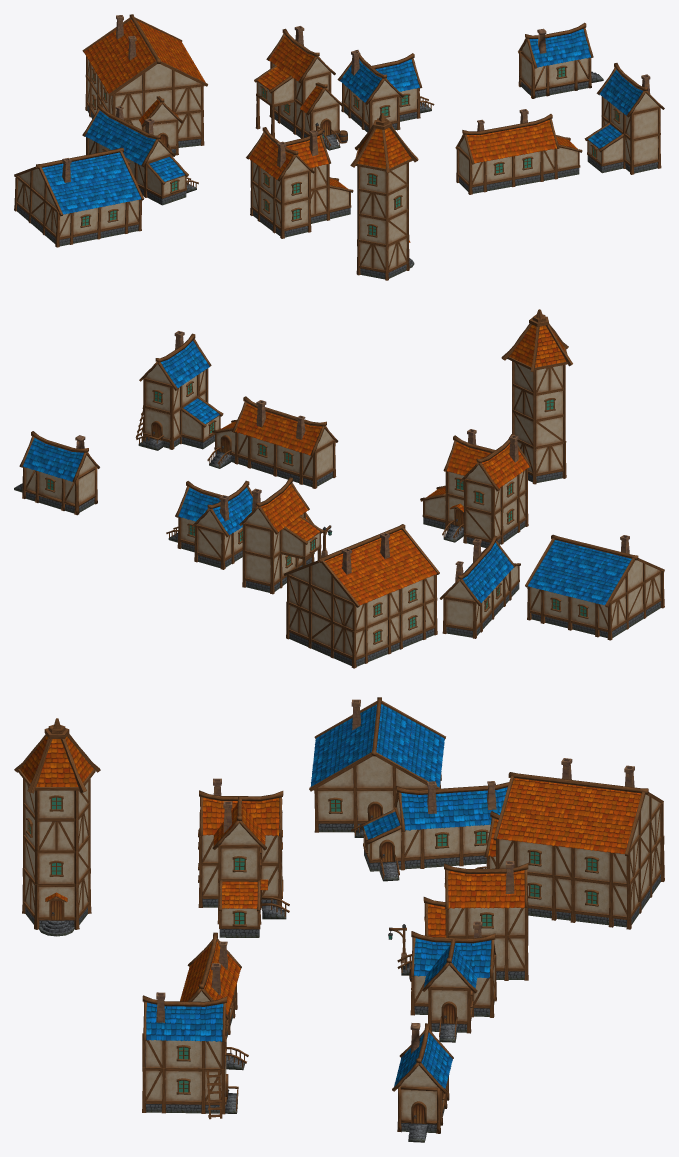
3 views of the same model, one above another, from view 1: azimuth 30°, elevation 25°; view 2: azimuth 150°, elevation 25°; view 3: azimuth 270°, elevation 25° (orthographic). The views are drawn at different scales.
Visible parts, largest first — view 1: RH8, BH6, RH6, Tower, RH3, RH4, BH1, BH5, BH2, BH3; view 2: RH8, BH6, RH6, Tower, RH3, BH1, RH4, BH5, BH2, BH3; view 3: RH8, Tower, BH6, RH6, BH5, BH1, RH4, BH2, BH3, RH3.
Part boxes in pixels (x1,y1,x2,y2): RH8: (82, 14, 207, 156); BH6: (14, 147, 144, 247); RH6: (246, 127, 353, 238); Tower: (350, 113, 418, 280); RH3: (455, 109, 582, 194); RH4: (254, 26, 343, 150); BH1: (584, 63, 664, 174); BH5: (82, 103, 198, 205); BH2: (337, 50, 434, 132); BH3: (518, 22, 603, 98); RH8: (284, 524, 439, 668); BH6: (525, 534, 664, 640); RH6: (420, 429, 531, 547); Tower: (501, 309, 572, 484); RH3: (207, 396, 338, 488); BH1: (136, 331, 223, 450); RH4: (239, 477, 323, 594); BH5: (439, 535, 520, 638); BH2: (166, 480, 253, 569); BH3: (14, 431, 99, 515); RH8: (475, 758, 664, 929); Tower: (14, 718, 100, 936); BH6: (309, 697, 445, 837); RH6: (198, 778, 289, 937); BH5: (360, 781, 508, 881); BH1: (142, 992, 238, 1114); RH4: (397, 861, 528, 980); BH2: (410, 921, 496, 1042); BH3: (392, 1023, 453, 1142); RH3: (180, 932, 248, 1070).
Bounding box in the file's own units: 4342 × 1119 × 3281.
3 materials, 2 textured.
